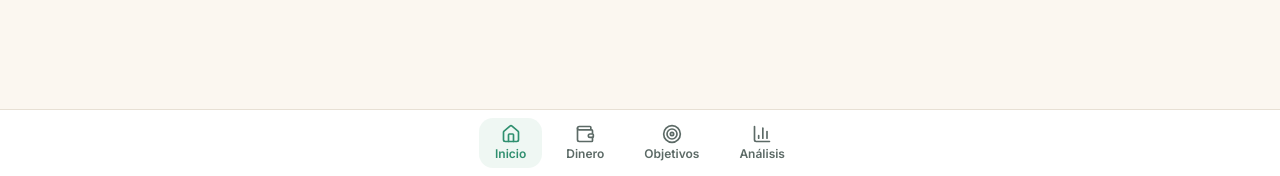
it: AppNav (grouped bottom nav) › marks the group button expanded while open
The image size is (1280, 176).
Click the button "Objetivos" at (672, 143), box [628, 118, 715, 168]
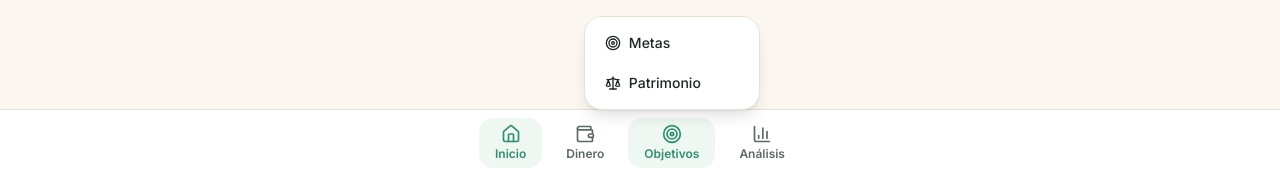
Check: the button "Objetivos" is expanded, box [628, 118, 715, 168]
Check: the menu item "Patrimonio" is shown, box [605, 74, 701, 91]
